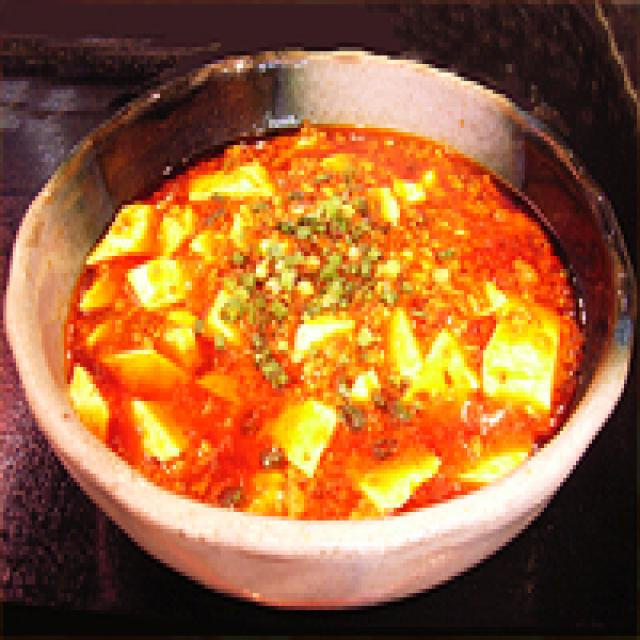豆腐料理: (0, 38, 640, 640)
